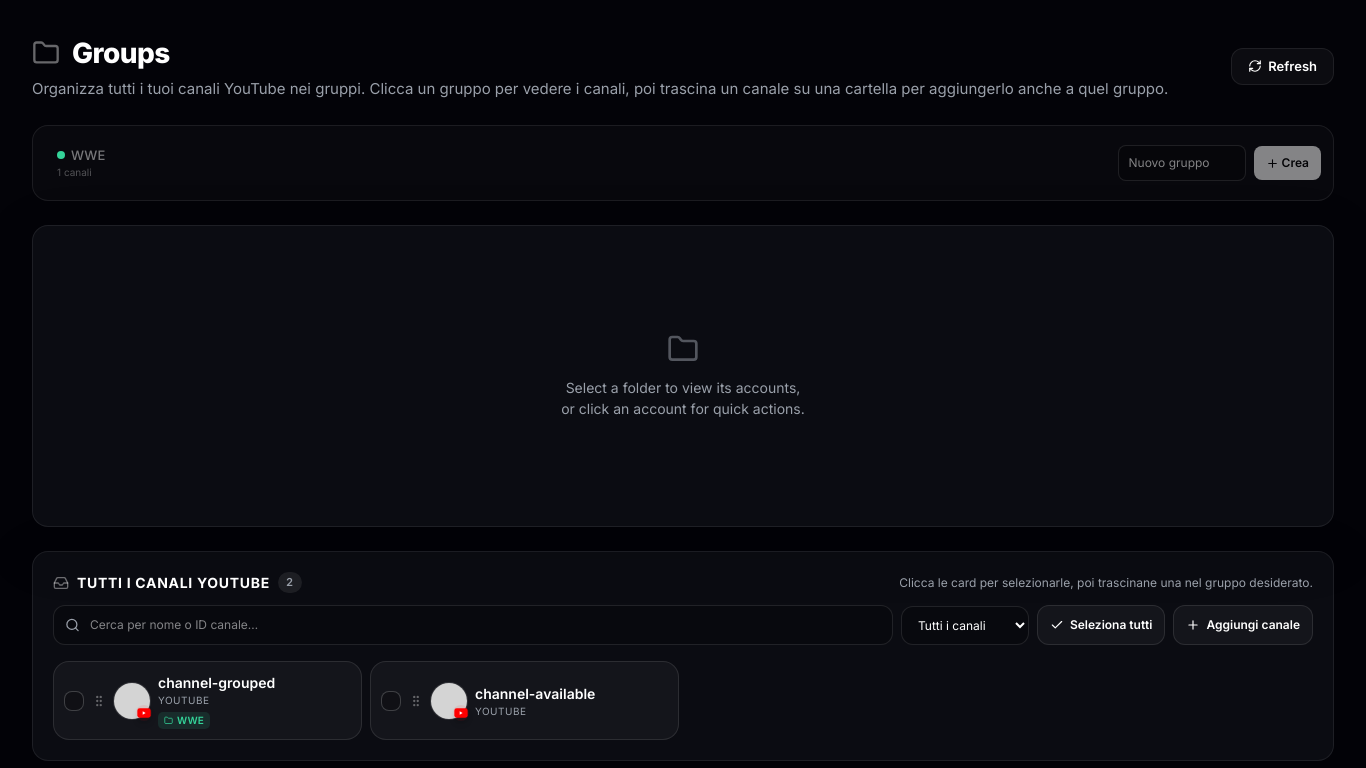
Test case: GroupsPage › shows a clear empty state when the current search has no matches
In the field named "Cerca canali": (473, 625) [53,605,893,645], type "missing-channel"
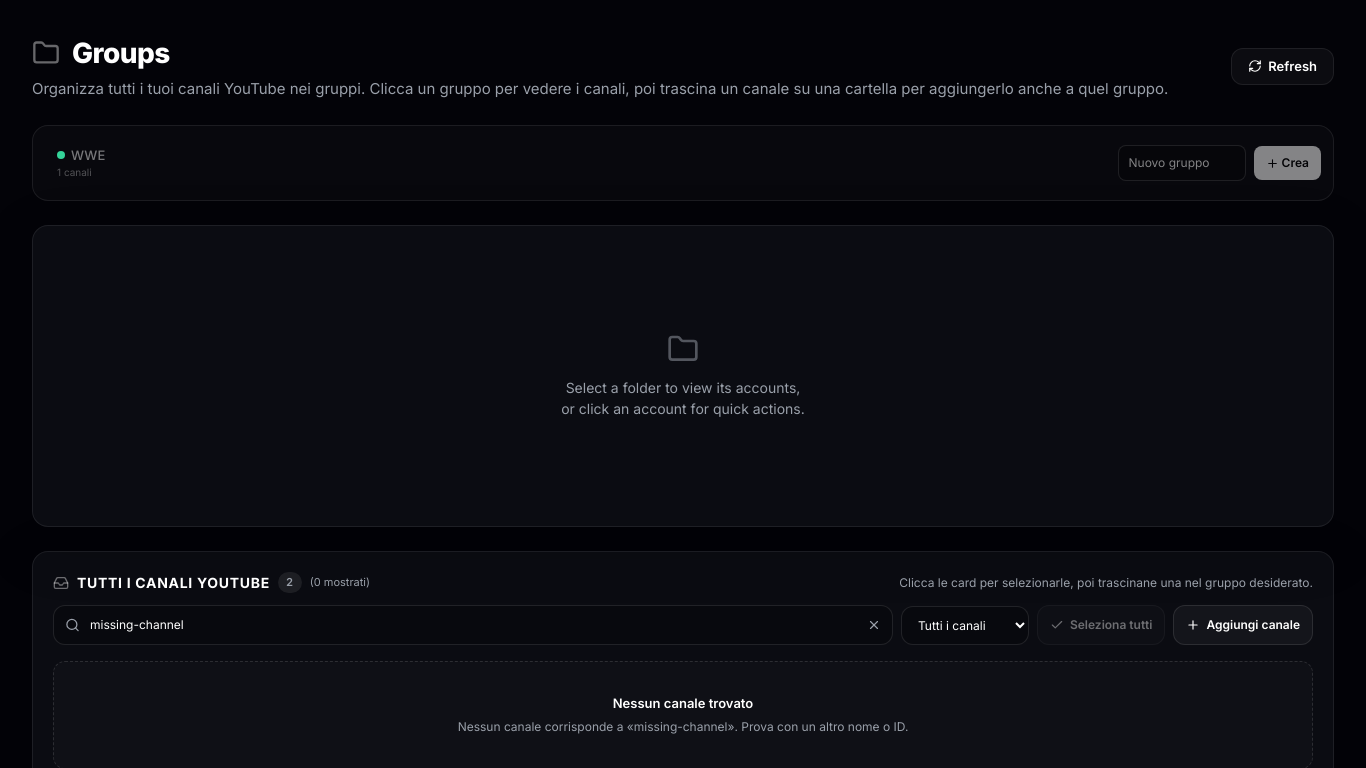
Check: the element with test id "youtube-channels-empty" shows "Nessun canale trovato", box [613,695,753,711]
Check: the element with test id "youtube-channels-empty" shows "missing-channel", box [458,718,908,734]
